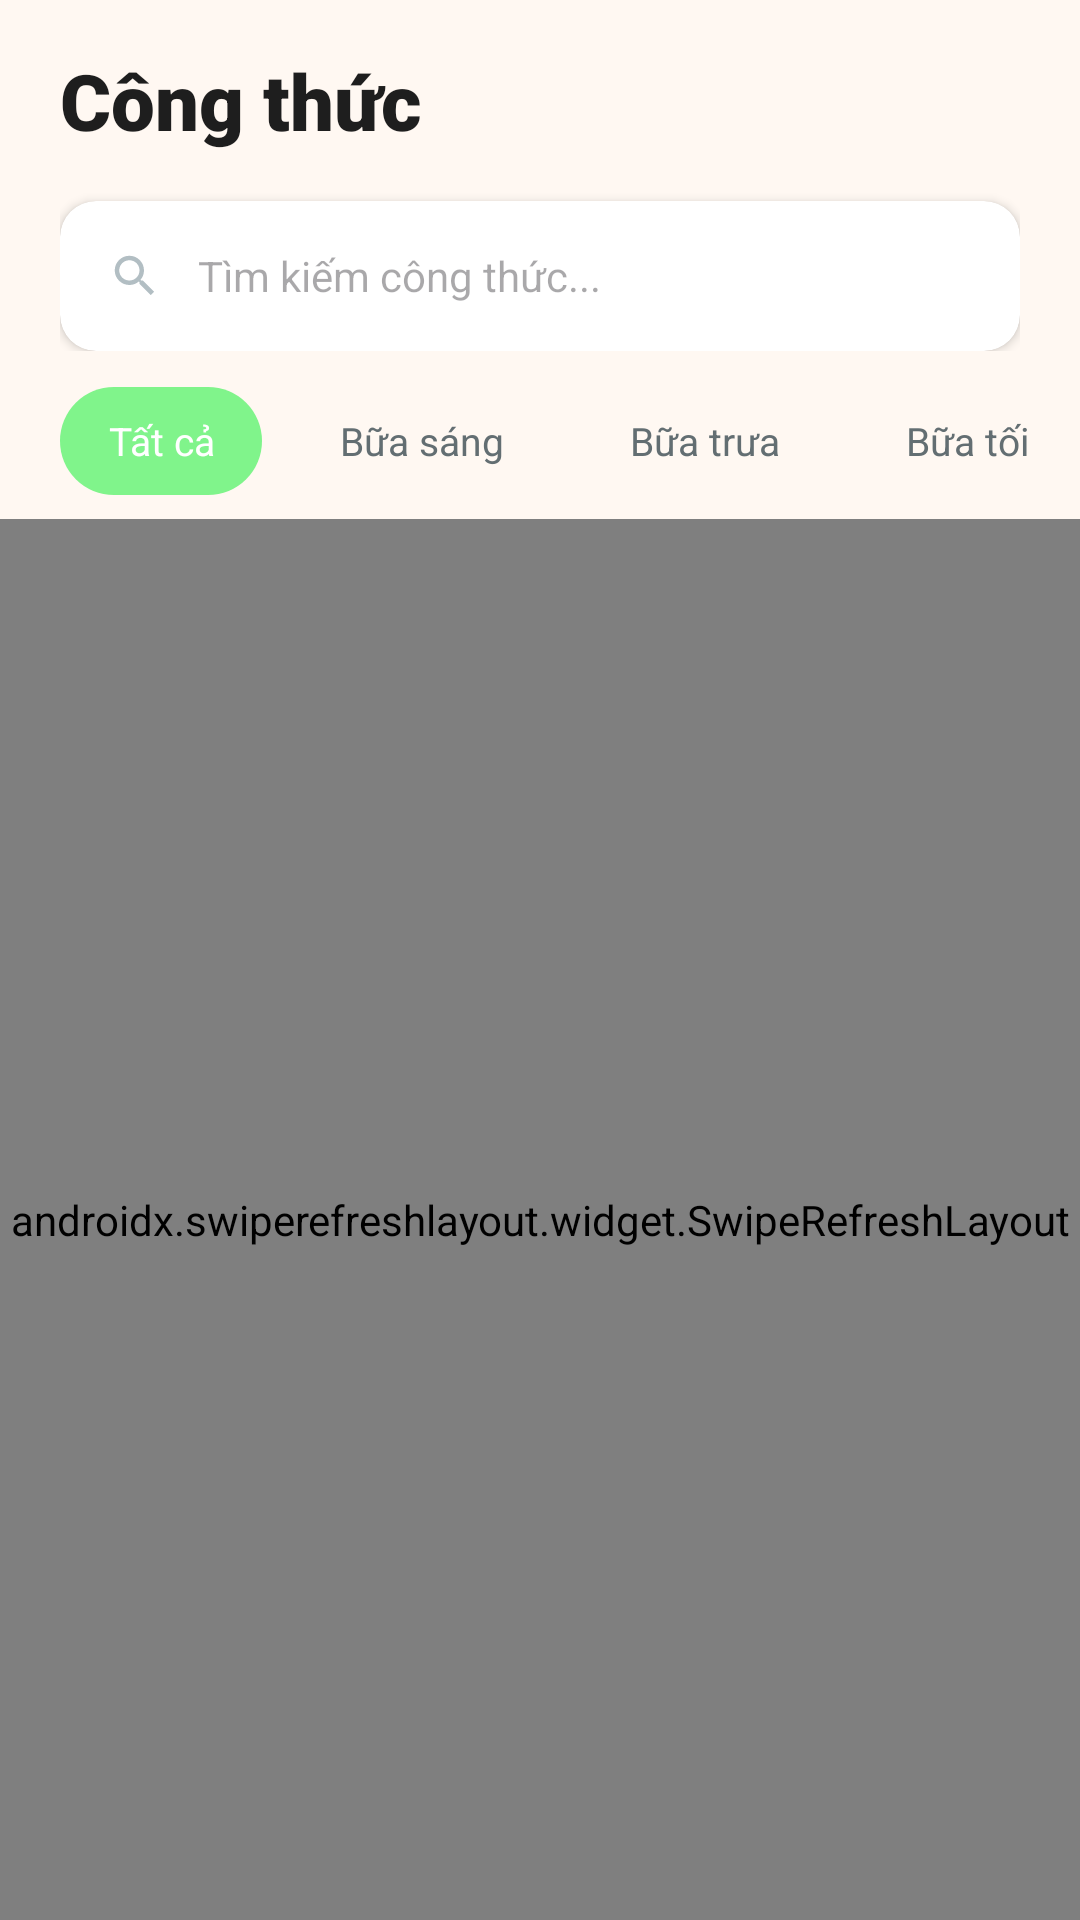

Screen size 1080*1920. Icon name, then its box in pixels as (x1, y1, x2, y2):
search: (115, 256, 154, 295)
